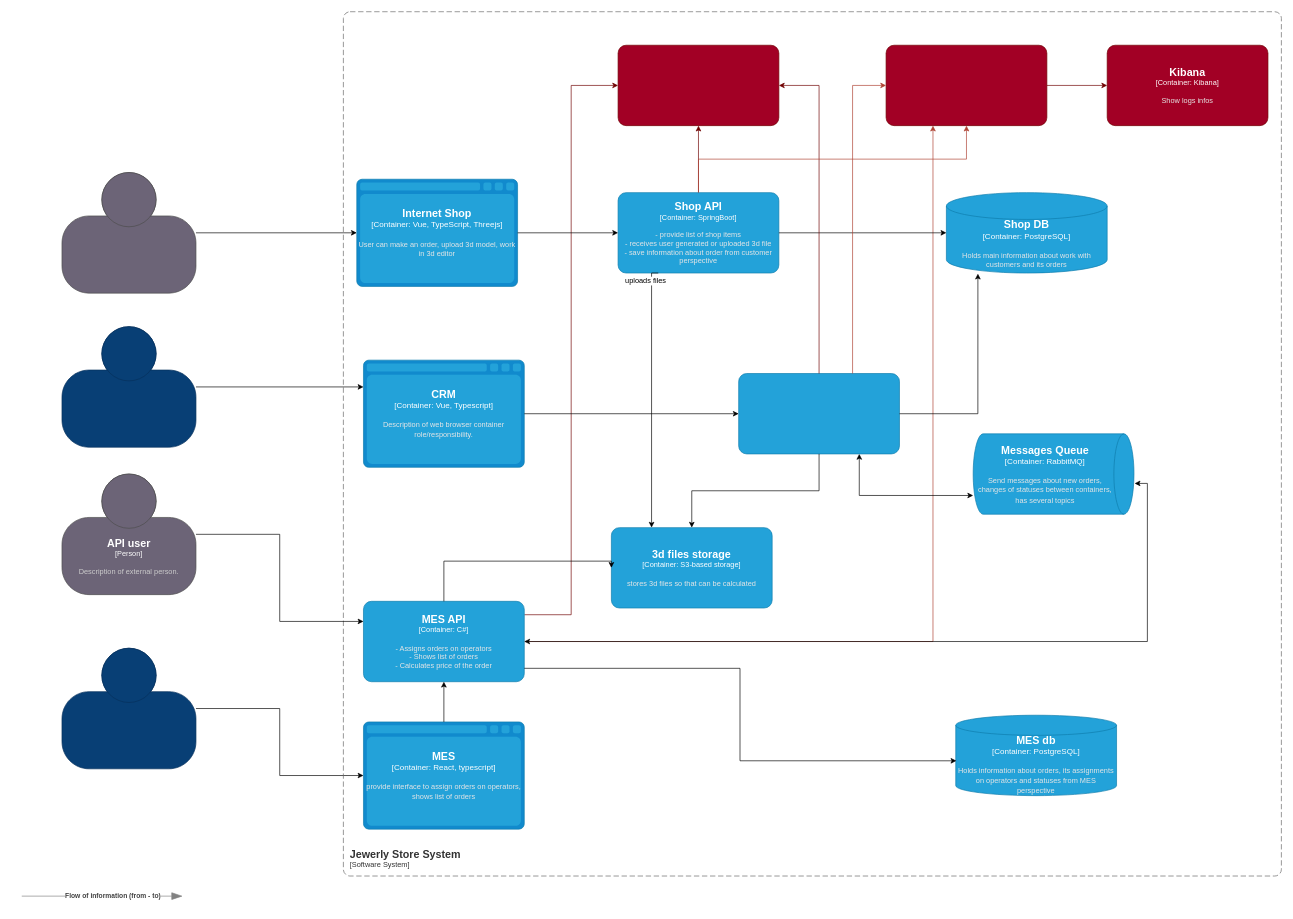
The diagram is 1293 pixels wide and 919 high, and some of its shapes have lost their labels. Here are the shapes that lost their labels. From the top down, the box of each, then its label:
(617, 45, 779, 126): Jaeger Collector [Container: Jaeger] Collect trace infos
(885, 45, 1047, 126): Elasticsearch Collector [Container: ElasticSearch] Collect logs infos
(61, 172, 196, 293): Customer [Person] Description of external person.
(61, 326, 196, 447): Seller [Person] Operates with order, confirms manufacturing for the user
(738, 373, 899, 454): CRM API [Container: SpringBoot] Description of container role/responsibility.
(61, 648, 196, 769): Operator [Person] Takes order in work, manufactures jewerly
